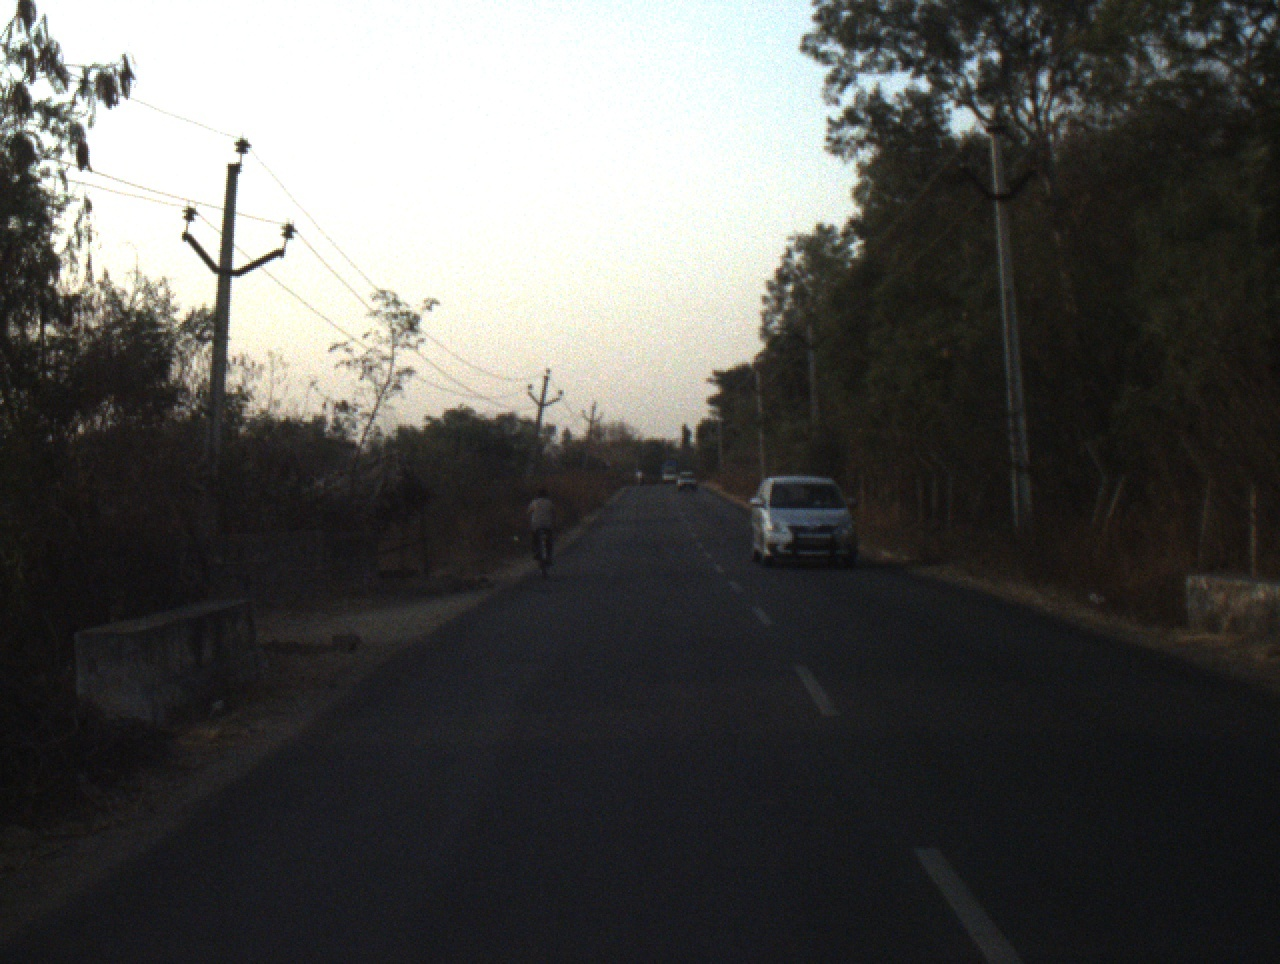bicycle: (533, 526, 559, 579)
car: (745, 472, 865, 569), (673, 469, 700, 494)
motorcycle: (636, 478, 642, 483)
rider: (524, 489, 559, 568), (635, 468, 643, 479)
truck: (659, 459, 679, 486)
vehicle fallback: (637, 456, 660, 485)
